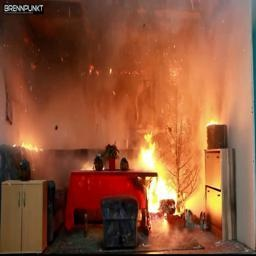fire: (125, 130, 184, 214)
